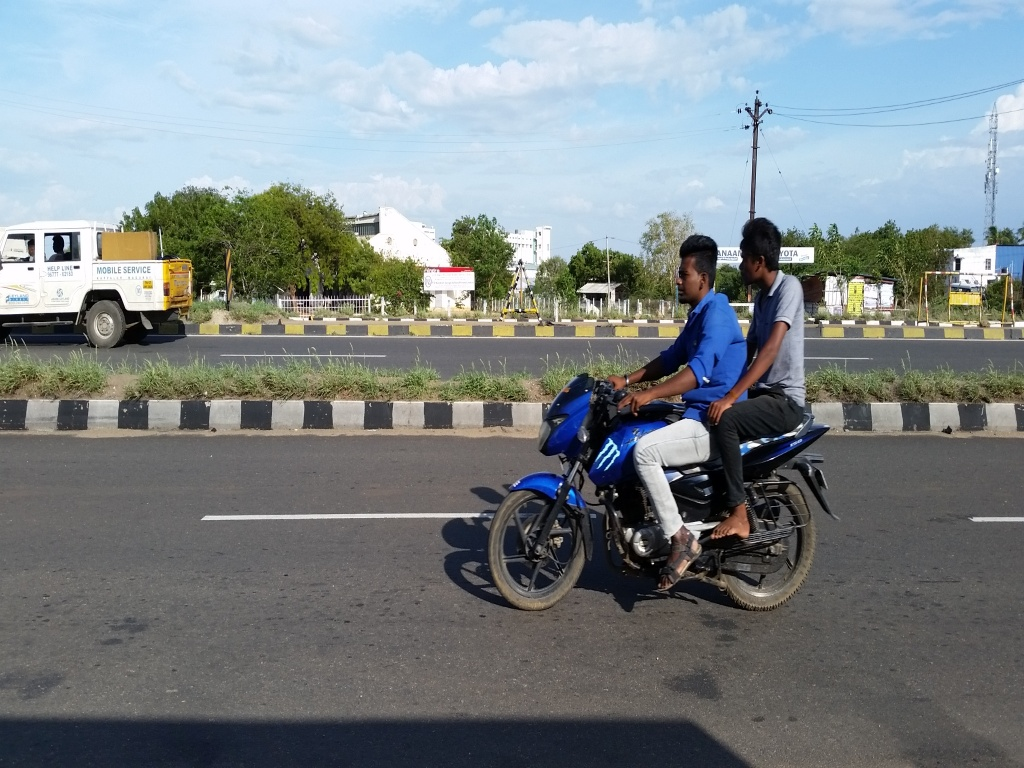biker: (466, 180, 862, 622)
nohelmet: (730, 207, 791, 298), (668, 223, 729, 314)
